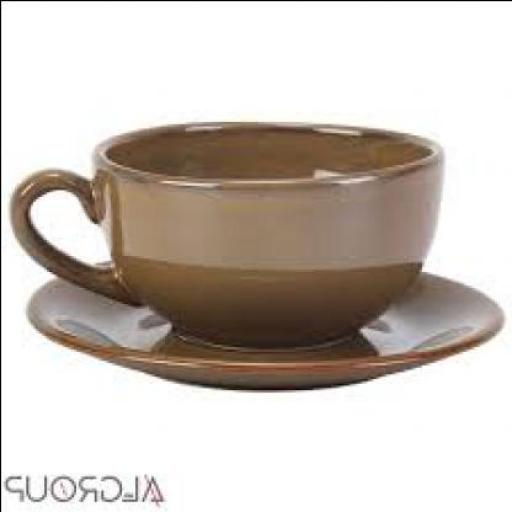glass: (11, 118, 444, 344), (28, 259, 505, 387)
